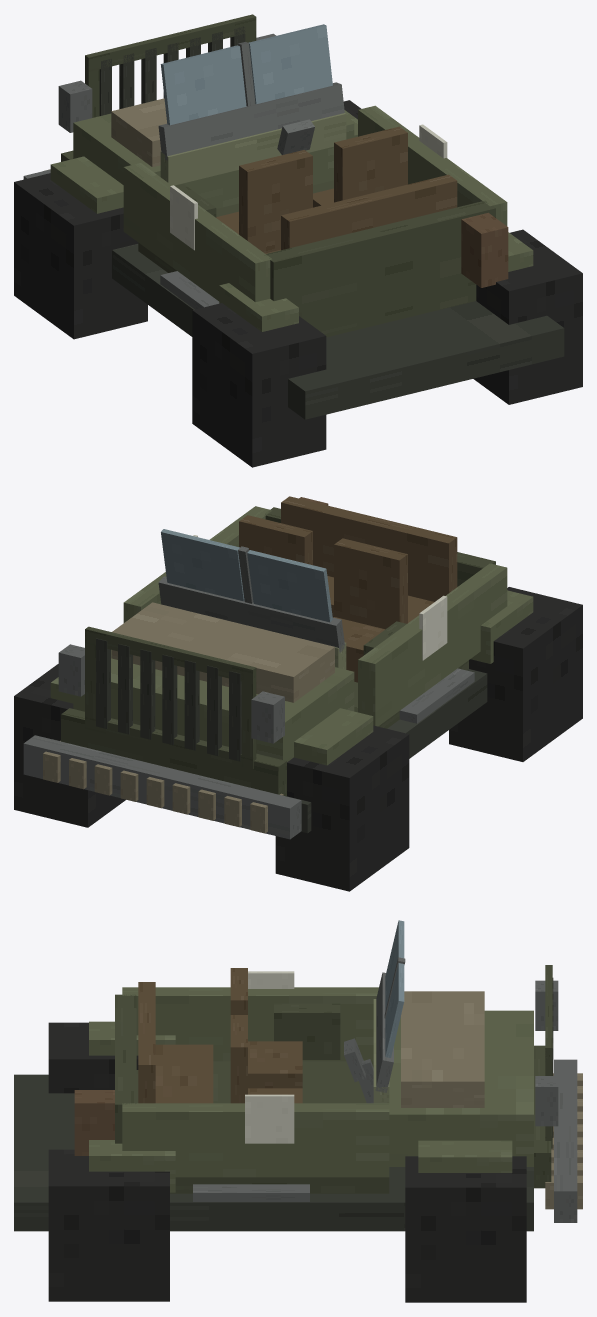
Rendered from Jeep combate.obj.
The picture shows the model from 3 angles, top to bottom: view 1: azimuth 30°, elevation 25°; view 2: azimuth 150°, elevation 25°; view 3: azimuth 270°, elevation 25°; orthographic projection.
Visible parts, largest first — view 1: Chasis, Rueda_Rear_Izq, Rueda_Front_Izq, Trasera, Rueda_Rear_Der, Lateral_Izq, Asiento_Trasero_Respaldo, Marco_Parabrisas, Asiento_Conductor_Respaldo, Cristal_Izq, Cristal_Der, Capo (+19 smaller); view 2: Rueda_Front_Izq, Rueda_Rear_Izq, Lateral_Izq, Lona_Capo, Asiento_Trasero_Respaldo, Barra_Parachoques, Rueda_Front_Der, Capo, Asiento_Conductor_Respaldo, Frontal_Bajo, Marco_Parabrisas, Cristal_Izq (+34 smaller); view 3: Rueda_Rear_Der, Lateral_Der, Rueda_Front_Der, Chasis, Capo, Lona_Capo, Lateral_Izq, Suelo_Cabina, Rueda_Rear_Izq, Barra_Parachoques, Asiento_Trasero_Base, Deposito_Lateral (+21 smaller).
Part boxes in pixels (<box>): Chasis: <box>112,244,564,419</box>; Rueda_Rear_Izq: <box>192,303,326,467</box>; Rueda_Front_Izq: <box>14,173,147,339</box>; Trasera: <box>264,200,495,319</box>; Rueda_Rear_Der: <box>473,229,582,404</box>; Lateral_Izq: <box>123,163,271,302</box>; Asiento_Trasero_Respaldo: <box>281,174,457,250</box>; Marco_Parabrisas: <box>158,82,344,160</box>; Asiento_Conductor_Respaldo: <box>239,150,312,245</box>; Cristal_Izq: <box>160,45,246,125</box>; Cristal_Der: <box>248,24,332,104</box>; Capo: <box>73,113,354,208</box>; Rueda_Front_Izq: <box>275,725,409,891</box>; Rueda_Rear_Izq: <box>449,587,582,761</box>; Lateral_Izq: <box>358,563,507,726</box>; Lona_Capo: <box>111,602,334,702</box>; Asiento_Trasero_Respaldo: <box>281,496,457,601</box>; Barra_Parachoques: <box>23,735,301,839</box>; Rueda_Front_Der: <box>14,664,125,827</box>; Capo: <box>73,650,354,761</box>; Asiento_Conductor_Respaldo: <box>334,538,407,629</box>; Frontal_Bajo: <box>61,708,286,796</box>; Marco_Parabrisas: <box>158,576,344,652</box>; Cristal_Izq: <box>247,550,332,622</box>; Rueda_Rear_Der: <box>48,1149,169,1301</box>; Lateral_Der: <box>122,1103,389,1177</box>; Rueda_Front_Der: <box>405,1156,526,1302</box>; Chasis: <box>14,1074,533,1231</box>; Capo: <box>389,1010,533,1166</box>; Lona_Capo: <box>401,991,484,1107</box>; Lateral_Izq: <box>122,987,378,1061</box>; Suelo_Cabina: <box>136,1061,389,1193</box>; Rueda_Rear_Izq: <box>48,1022,138,1093</box>; Barra_Parachoques: <box>554,1059,577,1222</box>; Asiento_Trasero_Base: <box>155,1044,213,1103</box>; Deposito_Lateral: <box>274,1003,340,1059</box>.
Bounding box in the file's own units: 1.7 × 1.24 × 2.46.
Materials: 1 (1 with a texture image).
